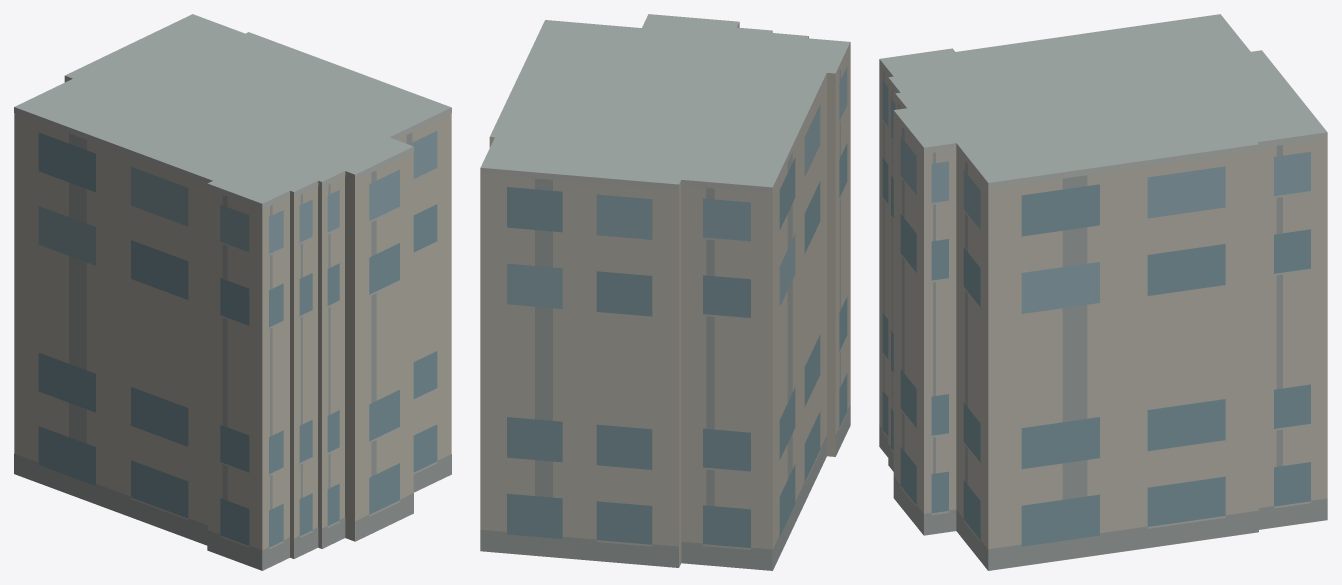
The model's file is residential-5be7ea86-8db8-4079-8b52-352aa2256071.glb.
The picture shows the model from 3 angles, left to right: view 1: azimuth 30°, elevation 25°; view 2: azimuth 150°, elevation 25°; view 3: azimuth 270°, elevation 25°; orthographic projection. The views are drawn at different scales.
Visible parts, largest first — view 1: residential-5be7ea86-8db8-4079-8b52-352aa2256071.tmp; view 2: residential-5be7ea86-8db8-4079-8b52-352aa2256071.tmp; view 3: residential-5be7ea86-8db8-4079-8b52-352aa2256071.tmp.
Part boxes in pixels (<box>): residential-5be7ea86-8db8-4079-8b52-352aa2256071.tmp: <box>14,14,451,570</box>; residential-5be7ea86-8db8-4079-8b52-352aa2256071.tmp: <box>480,14,850,570</box>; residential-5be7ea86-8db8-4079-8b52-352aa2256071.tmp: <box>879,14,1327,570</box>.
Bounding box in the file's own units: 14.12 × 15.1 × 15.82.
